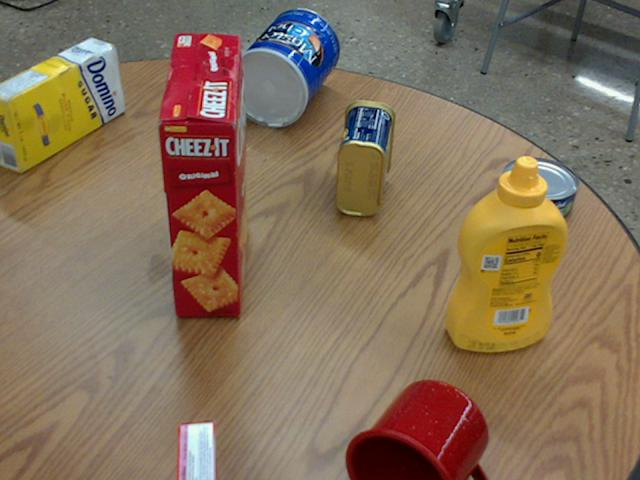cracker_box: (160, 34, 248, 316)
gelatin_box: (172, 421, 214, 479)
master_chef_can: (227, 8, 338, 126)
mug: (343, 380, 487, 479)
mustard_bottle: (444, 156, 567, 351)
potted_meat_can: (336, 100, 394, 215)
sugar_box: (0, 37, 123, 171)
tuna_fish_can: (498, 157, 576, 222)
